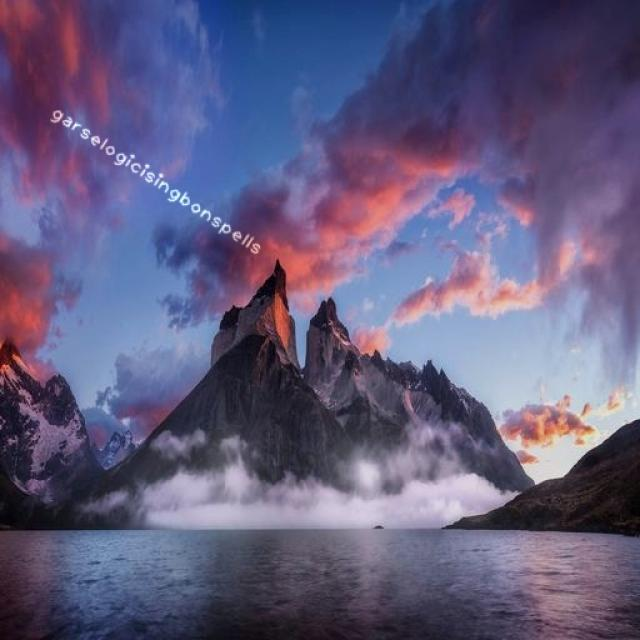watermark: (44, 101, 269, 259)
